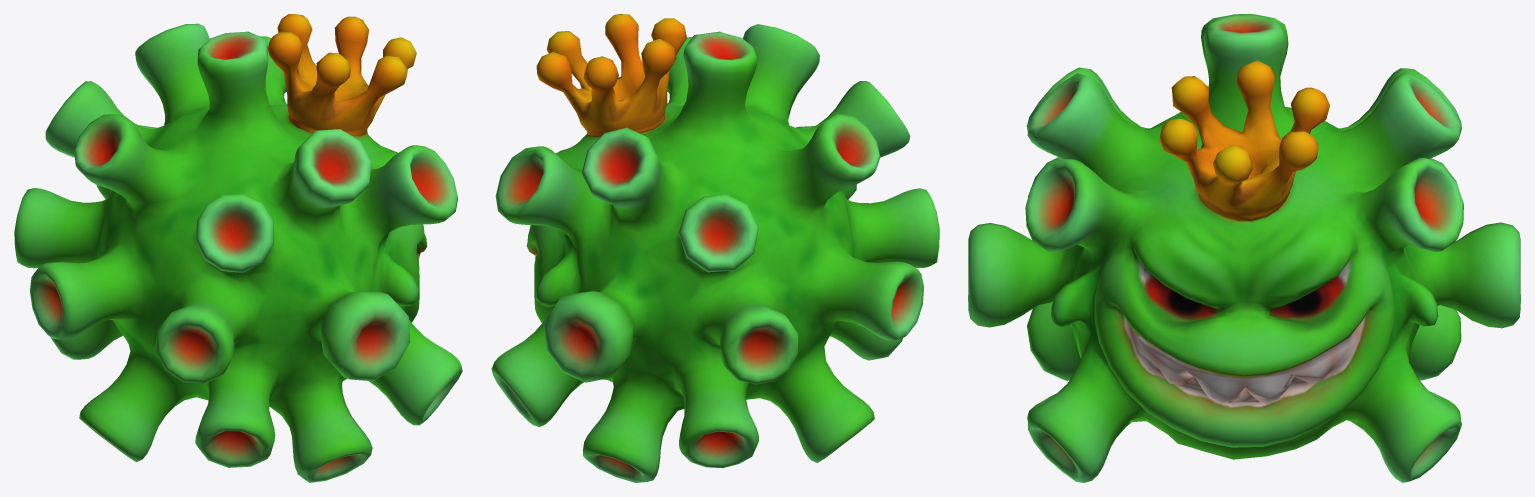
3 renders of one model, left to right at view 1: azimuth 30°, elevation 25°; view 2: azimuth 150°, elevation 25°; view 3: azimuth 270°, elevation 25°, orthographic. The views are drawn at different scales.
Visible parts, largest first — view 1: Covid Toy_0; view 2: Covid Toy_0; view 3: Covid Toy_0.
Part boxes in pixels (x1=…): Covid Toy_0: x1=14, y1=14, x2=462, y2=482; Covid Toy_0: x1=491, y1=14, x2=939, y2=482; Covid Toy_0: x1=968, y1=14, x2=1520, y2=482.
Size of the model in its own units: 1.3 by 1.33 by 1.52.
1 material, 1 textured.
